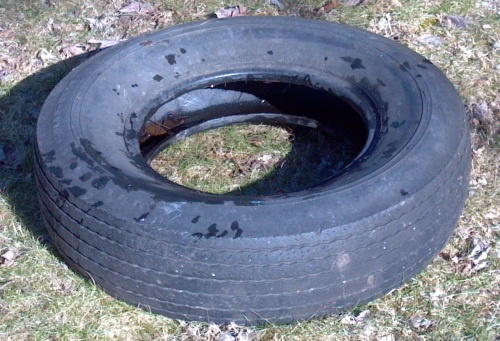tire: (34, 17, 472, 327)
